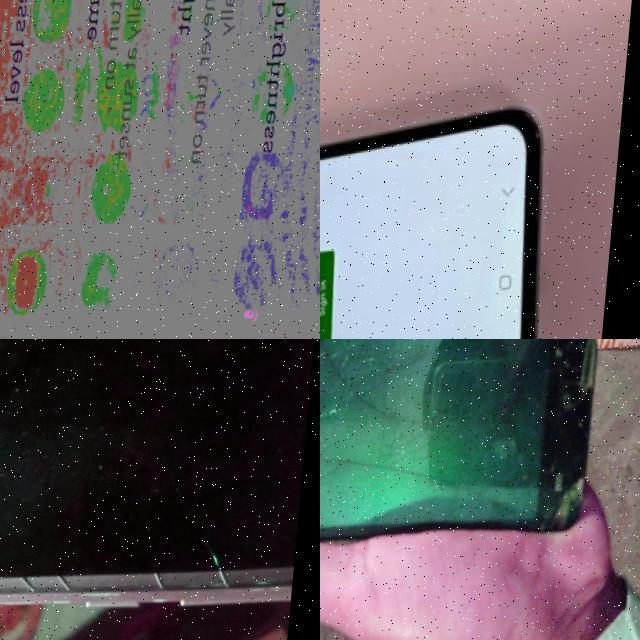screen crack: (0, 339, 276, 627), (320, 339, 393, 544), (550, 339, 617, 407), (541, 463, 603, 531)
